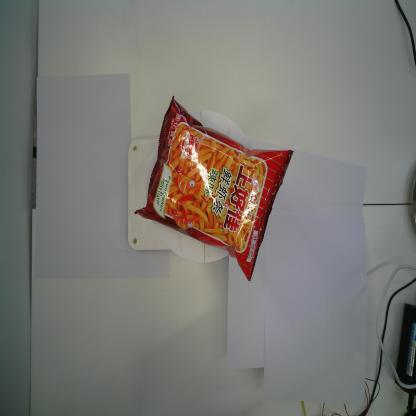Puffed Food: (134, 94, 294, 282)
